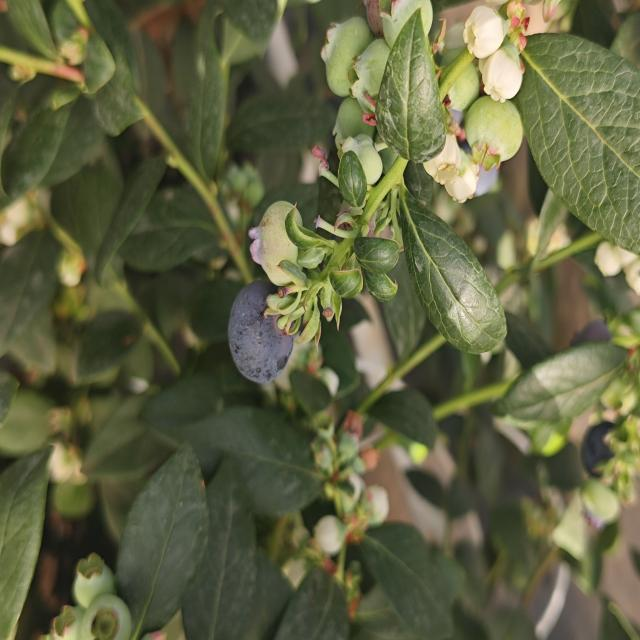ripe: (225, 271, 300, 390)
